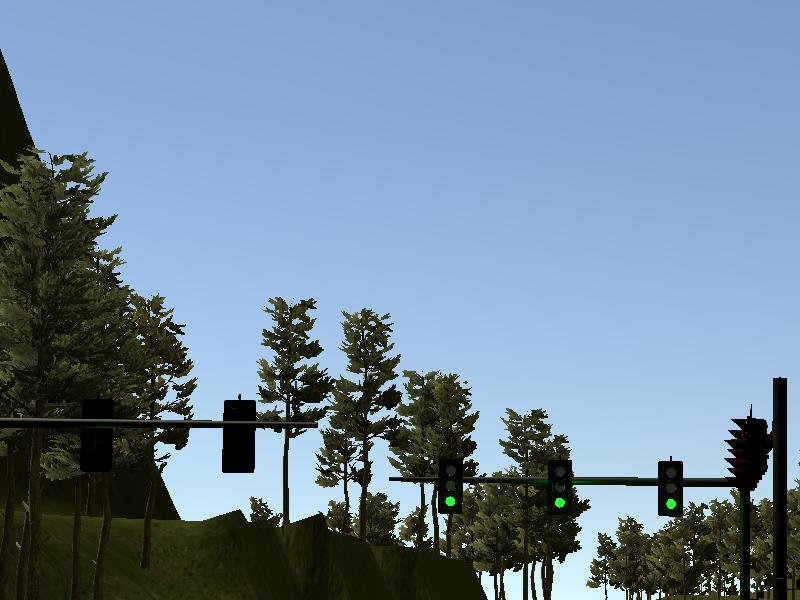green: (437, 459, 463, 514), (546, 456, 572, 511), (658, 460, 684, 515)
